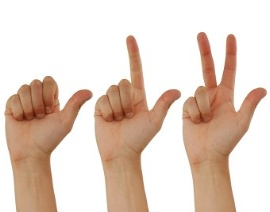move: (94, 35, 175, 157)
